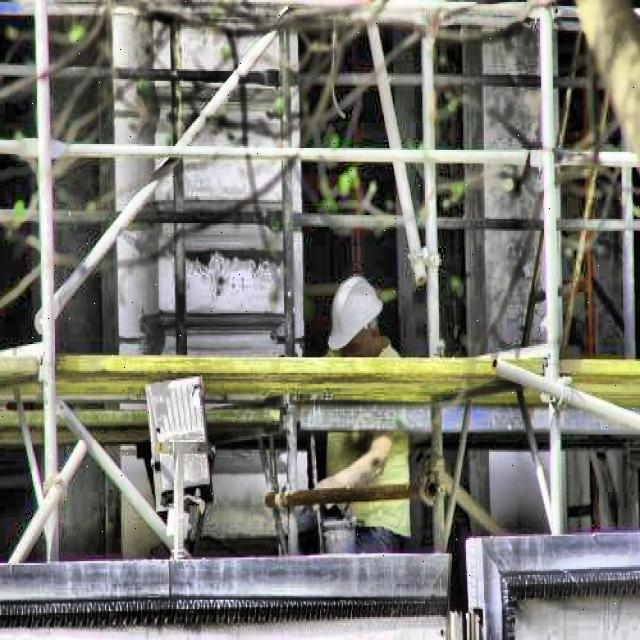helmet: (326, 267, 388, 367)
